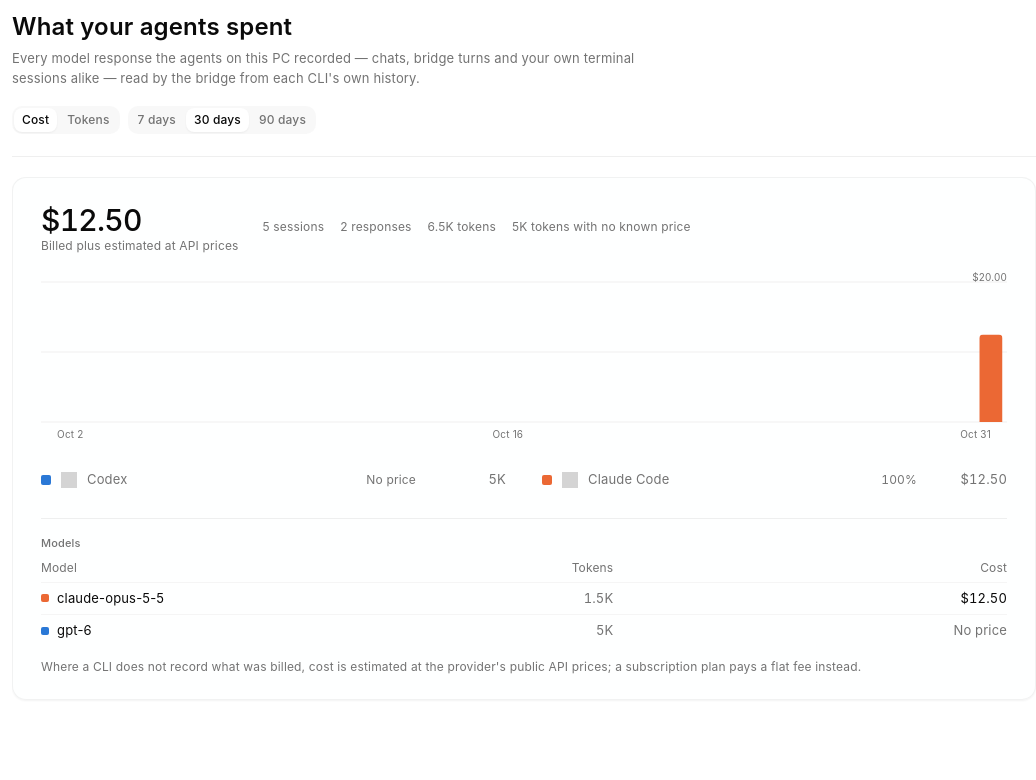
Scenario: ProviderSpend › switches to tokens
This screenshot has width=1036, height=780.
Click the radio button labelled "Tokens" at (88, 120), box [59,108,118,132]
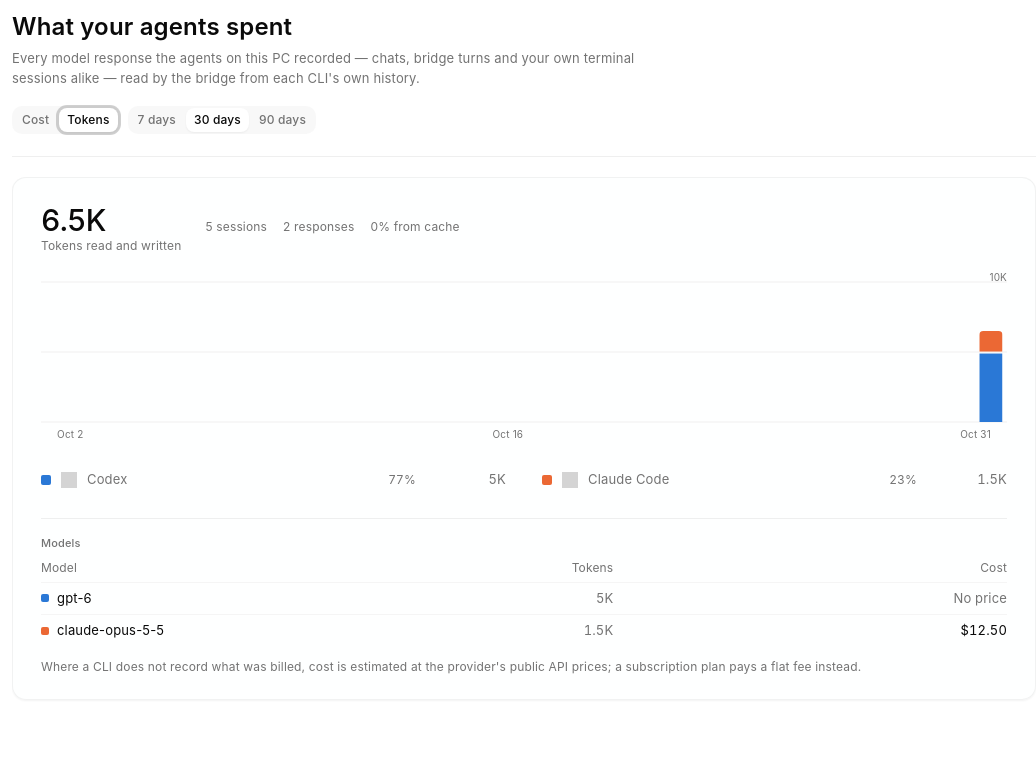
Check: the text "Tokens read and written" is shown, box [41,238,181,254]
Check: the text "6.5K" is shown, box [41,202,106,238]
